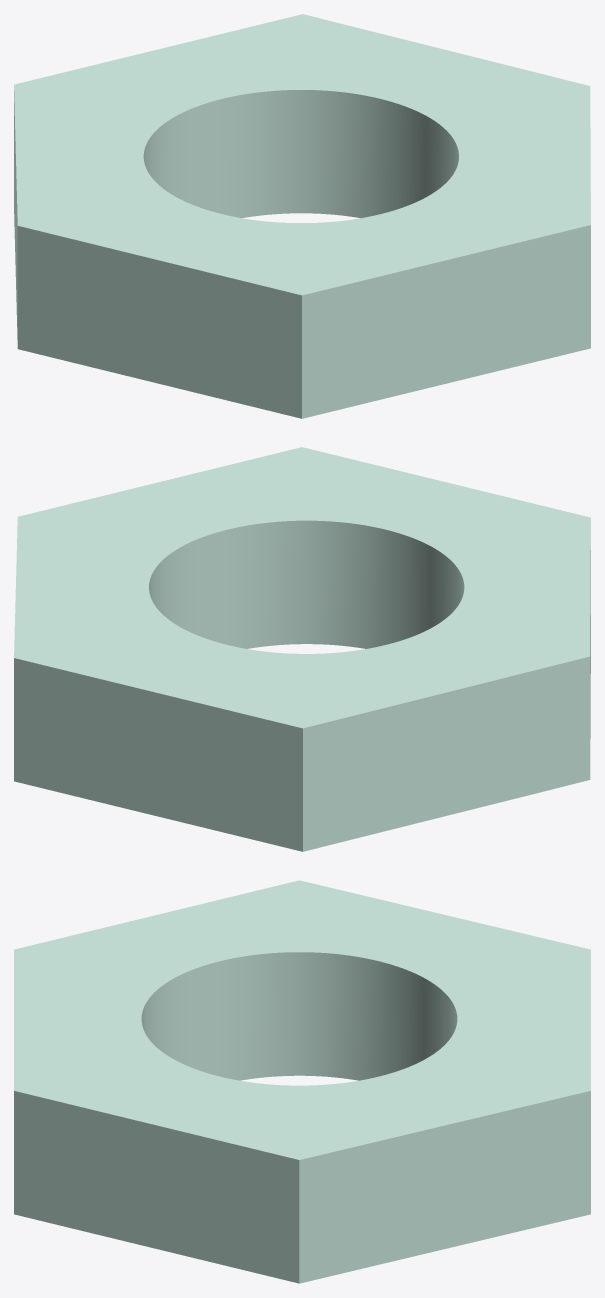
3 renders of one model, top to bottom at view 1: azimuth 30°, elevation 25°; view 2: azimuth 150°, elevation 25°; view 3: azimuth 270°, elevation 25°, orthographic.
Visible parts, largest first — view 1: Renderer Node; view 2: Renderer Node; view 3: Renderer Node.
Boxes of the visible parts, x1=… form: Renderer Node: x1=14, y1=14, x2=590, y2=418; Renderer Node: x1=14, y1=447, x2=590, y2=851; Renderer Node: x1=14, y1=880, x2=590, y2=1283.
Bounding box in the file's own units: 0.986 × 0.2031 × 0.8594.
